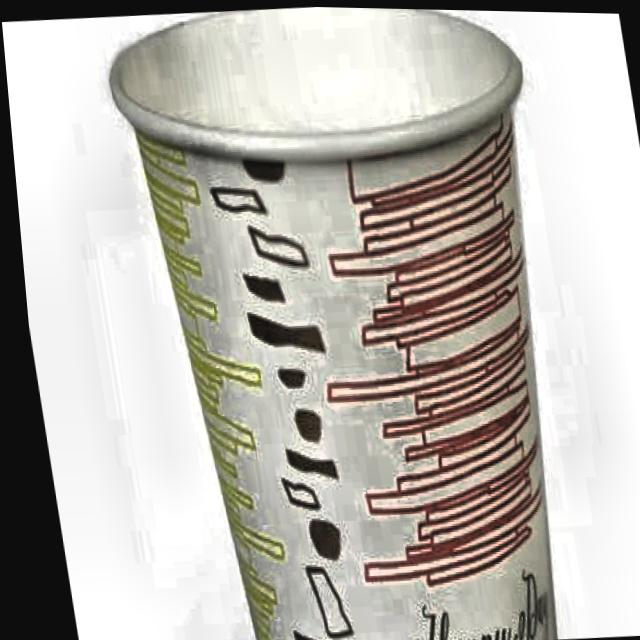Cup: (100, 2, 612, 640)
